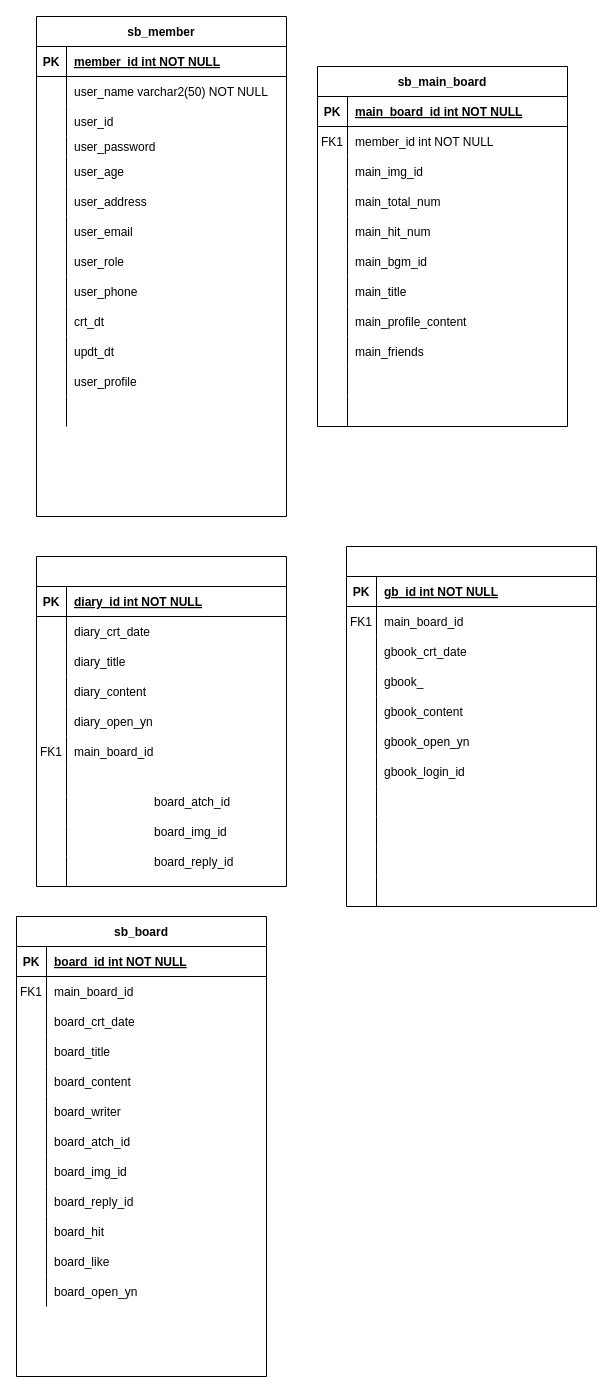
This 613x1393 diagram has some shape labels left out. Each missing label, with the box of its shape:
sb_diary: (36, 556, 286, 886)
sb_gbook: (346, 546, 596, 906)
